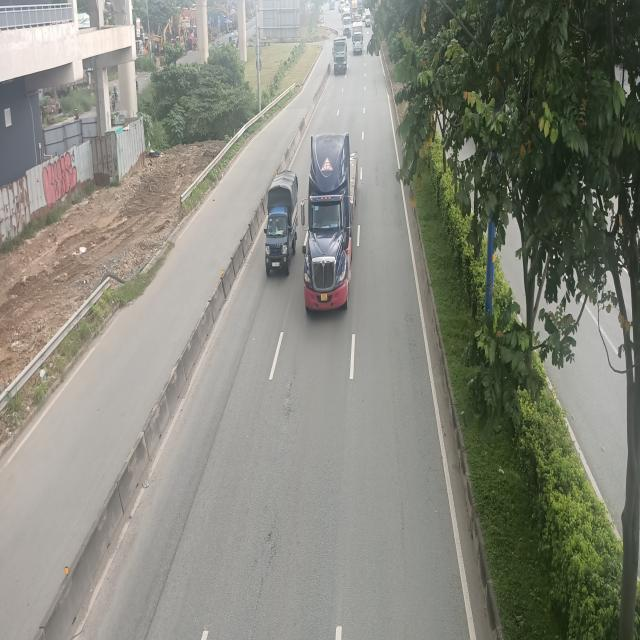container: (304, 133, 362, 312), (333, 36, 347, 76)
truck: (263, 170, 299, 274)
